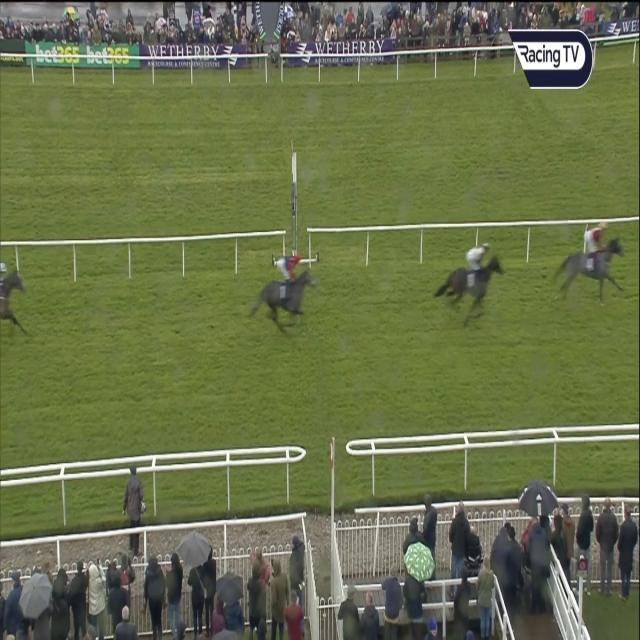horses-racing: (254, 248, 323, 342), (557, 220, 628, 310), (441, 238, 507, 322), (0, 257, 25, 355)
